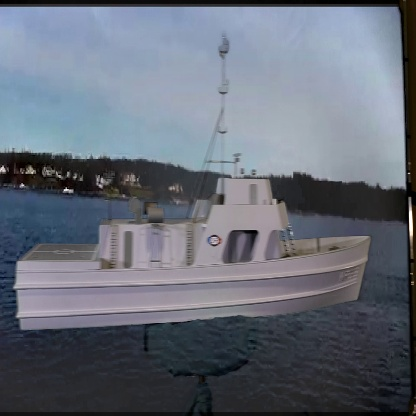YP689: (13, 27, 371, 334)
